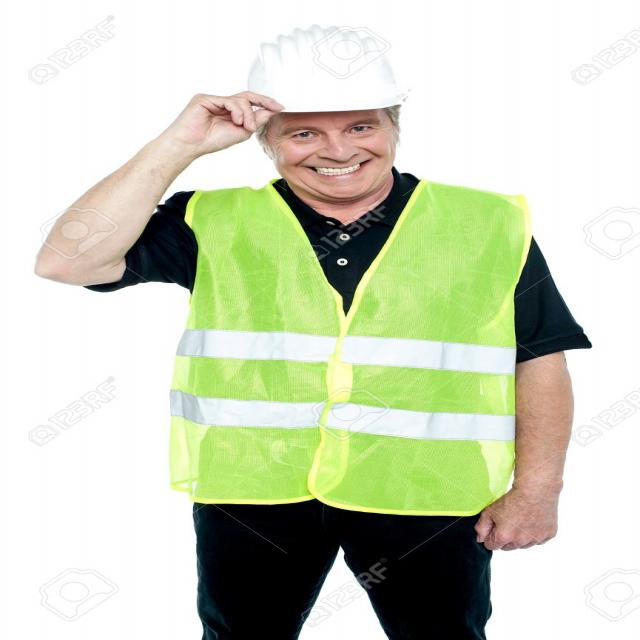Reflective-Jacket: (161, 178, 537, 516)
Safety-Helmet: (240, 20, 422, 116)
